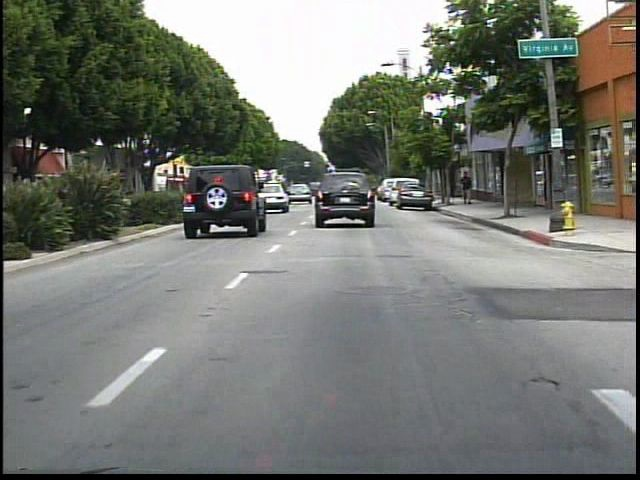person: (456, 168, 477, 209)
